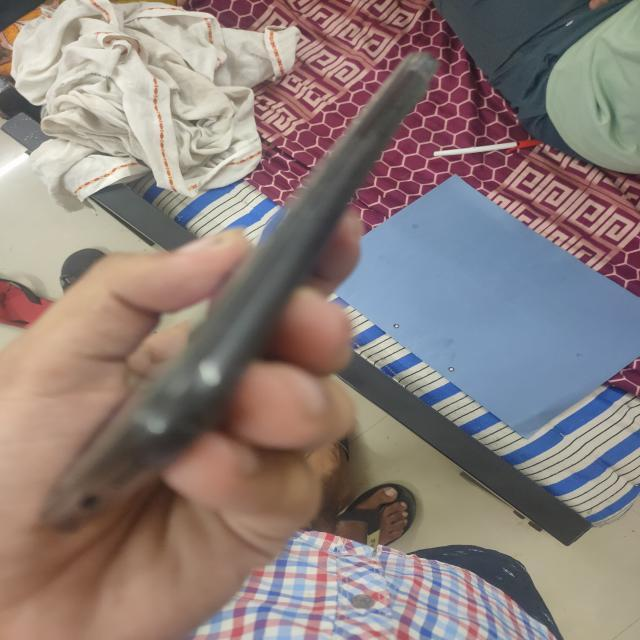Phone: (38, 49, 444, 539)
